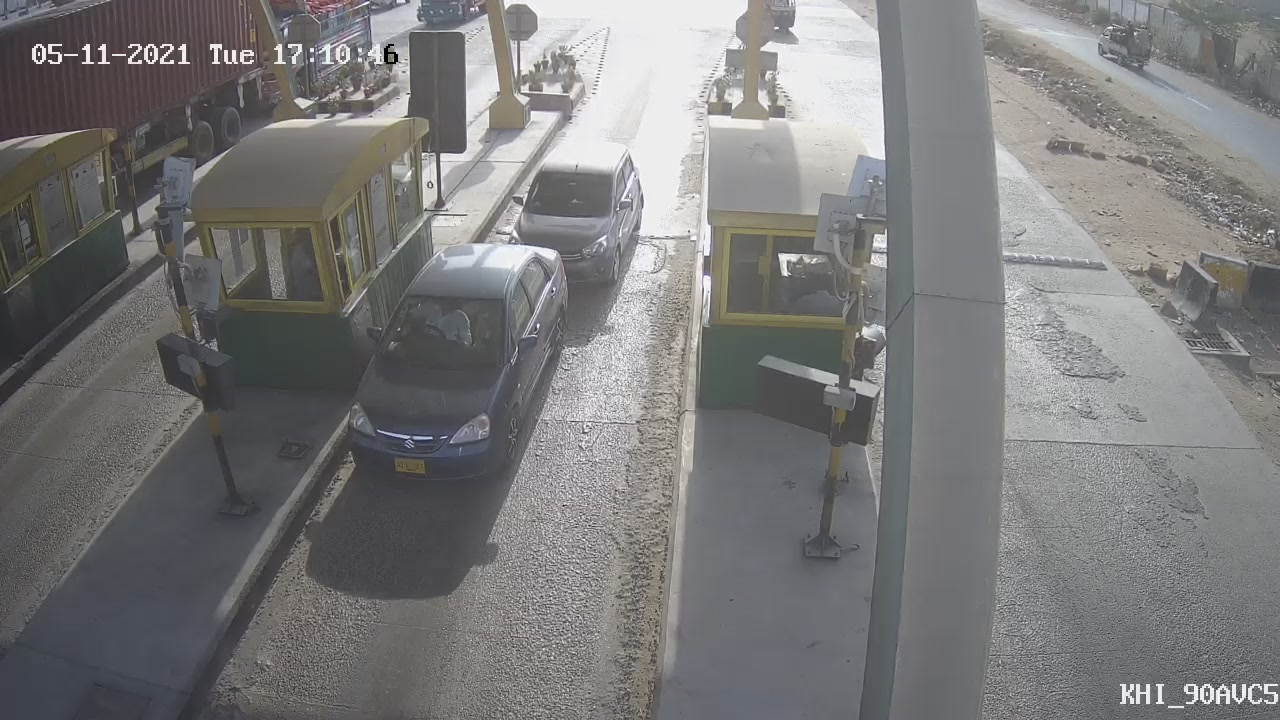F1: (331, 230, 591, 501), (491, 133, 661, 308)
